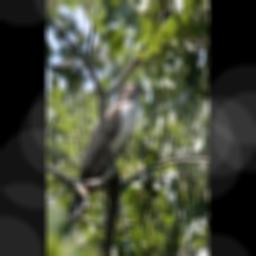Cuckoo: (57, 81, 150, 240)
